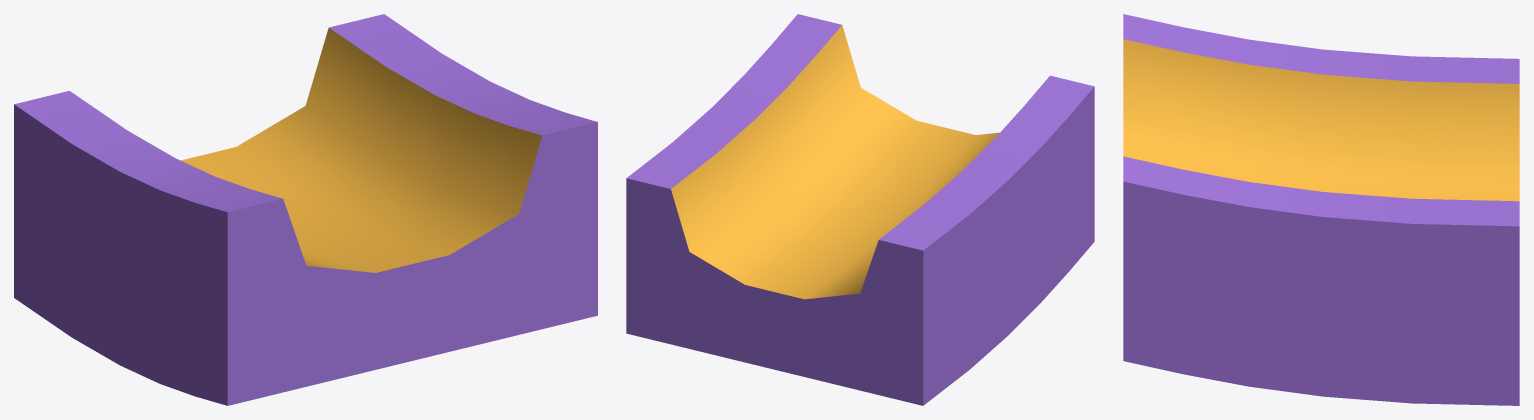
Rendered from kenney-marble-ramp-start-a.glb.
The picture shows the model from 3 angles, left to right: view 1: azimuth 30°, elevation 25°; view 2: azimuth 150°, elevation 25°; view 3: azimuth 270°, elevation 25°; orthographic projection. The views are drawn at different scales.
Visible parts, largest first — view 1: ramp-start-a; view 2: ramp-start-a; view 3: ramp-start-a.
Boxes of the visible parts, <box> form: ramp-start-a: <box>14,14,597,405</box>; ramp-start-a: <box>626,14,1094,405</box>; ramp-start-a: <box>1123,14,1519,405</box>.
Size of the model in its own units: 1 by 0.625 by 1.
Materials: 1 (1 with a texture image).
